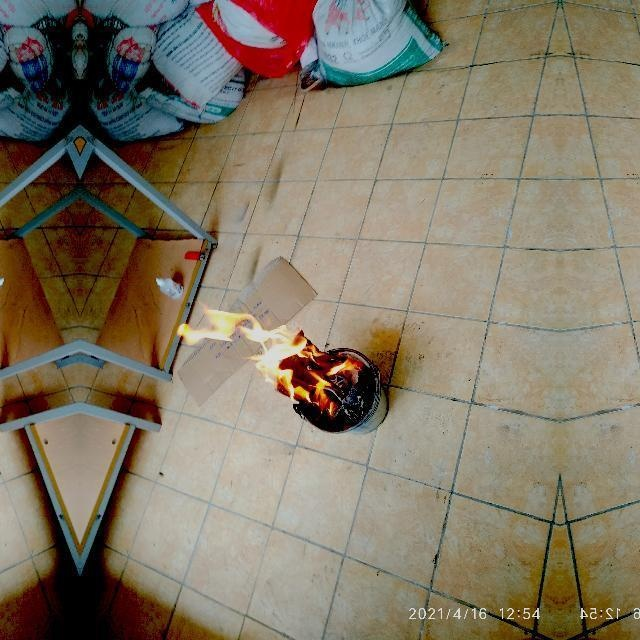fire: (193, 302, 373, 428)
